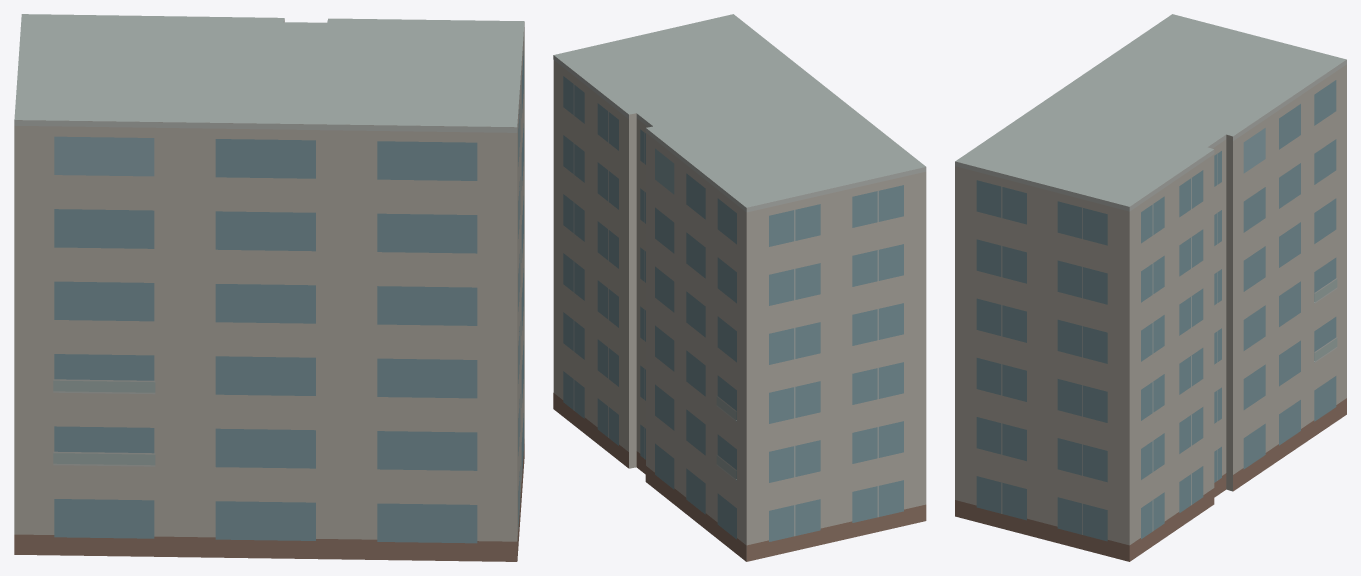
File: survey-upis-32966116.glb
3 renders of one model, left to right at view 1: azimuth 30°, elevation 25°; view 2: azimuth 150°, elevation 25°; view 3: azimuth 270°, elevation 25°, orthographic. The views are drawn at different scales.
Parts seen in each view (by area): view 1: survey-upis-32966116.tmp; view 2: survey-upis-32966116.tmp; view 3: survey-upis-32966116.tmp.
Part boxes in pixels (left/top/right/bottom): survey-upis-32966116.tmp: left=14, top=14, right=524, bottom=561; survey-upis-32966116.tmp: left=553, top=14, right=926, bottom=561; survey-upis-32966116.tmp: left=955, top=14, right=1346, bottom=561.
Size of the model in its own units: 21.33 by 18.3 by 18.31.
